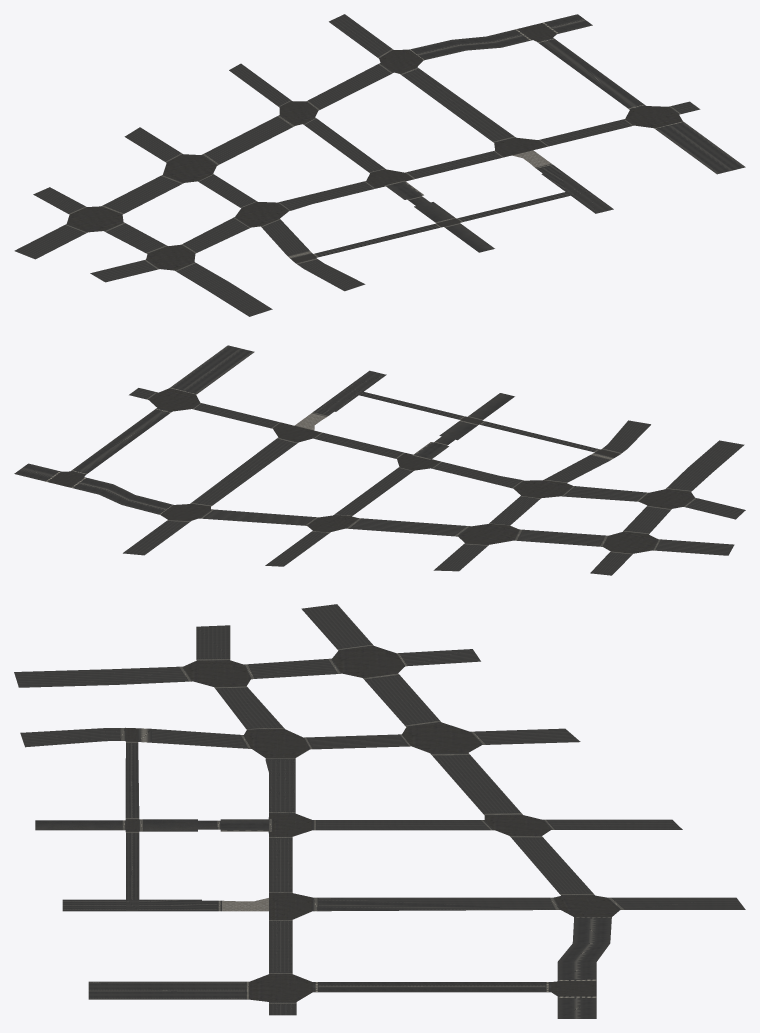
The model's file is roads.FBX.
3 renders of one model, top to bottom at view 1: azimuth 30°, elevation 25°; view 2: azimuth 150°, elevation 25°; view 3: azimuth 270°, elevation 25°, orthographic. The views are drawn at different scales.
Visible parts, largest first — view 1: Roads; view 2: Roads; view 3: Roads.
Part boxes in pixels (bbox=[...]): Roads: bbox=[14, 14, 745, 316]; Roads: bbox=[14, 345, 745, 575]; Roads: bbox=[14, 604, 745, 1018].
Size of the model in its own units: 984 by 3.85e-06 by 734.
